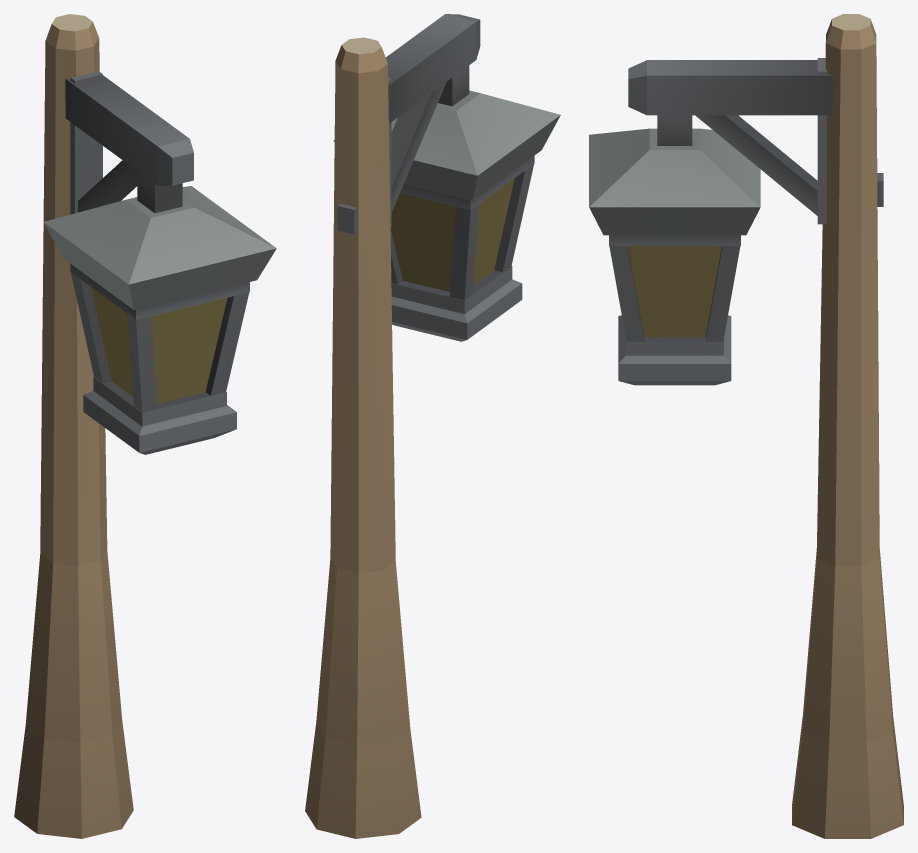
The model's file is lantern.glb.
3 renders of one model, left to right at view 1: azimuth 30°, elevation 25°; view 2: azimuth 150°, elevation 25°; view 3: azimuth 270°, elevation 25°, orthographic. The views are drawn at different scales.
Parts seen in each view (by area): view 1: lantern.001; view 2: lantern.001; view 3: lantern.001.
Part boxes in pixels (x1=…): lantern.001: x1=14, y1=14, x2=276, y2=838; lantern.001: x1=305, y1=14, x2=560, y2=838; lantern.001: x1=589, y1=14, x2=903, y2=838.
Size of the model in its own units: 0.51 by 2.6 by 0.9353.
